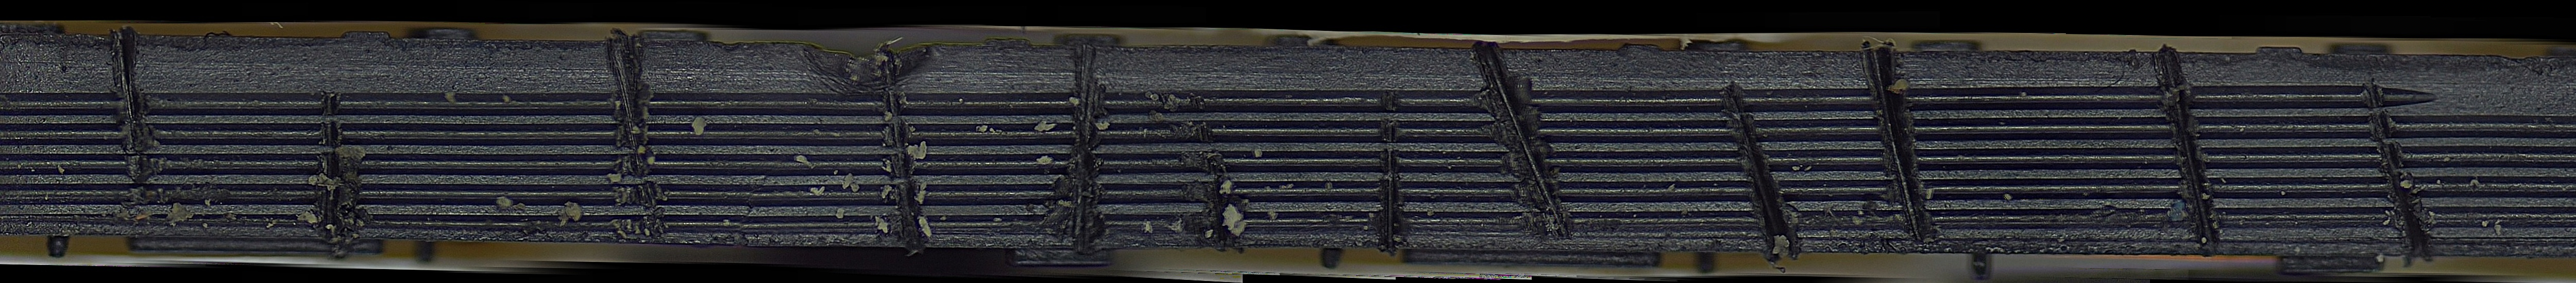Scratches: (1457, 43, 1572, 239), (2142, 35, 2233, 247), (1715, 79, 1812, 263), (1855, 39, 1942, 242), (2353, 72, 2438, 262), (596, 36, 670, 242), (864, 43, 938, 247), (85, 30, 168, 189), (1046, 46, 1111, 245), (302, 89, 366, 244), (1189, 94, 1252, 252), (1365, 87, 1411, 250), (797, 38, 930, 89)
dust: (790, 150, 861, 201), (122, 196, 205, 229), (910, 143, 935, 235), (299, 171, 337, 227), (1219, 181, 1250, 234), (874, 160, 894, 235), (550, 197, 586, 229), (685, 110, 716, 143), (485, 196, 529, 217), (1032, 151, 1061, 171), (1035, 120, 1061, 140)
